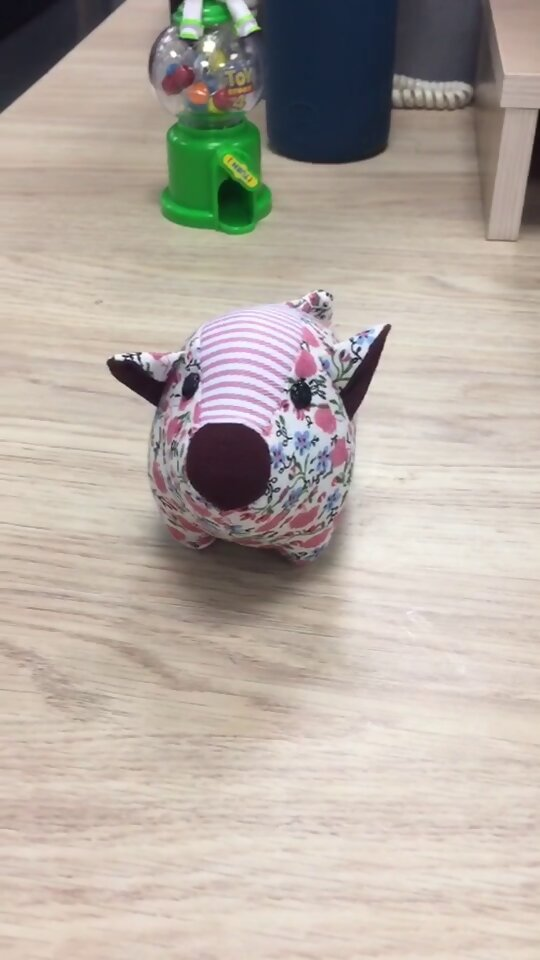pig: (101, 285, 396, 569)
